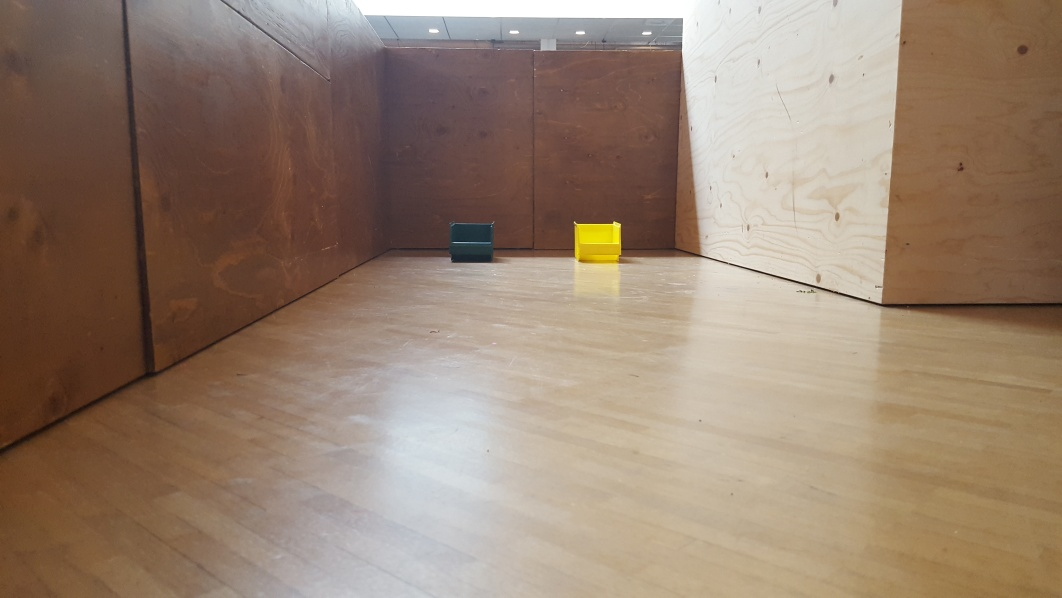tray: (565, 217, 625, 264), (447, 221, 499, 262)
